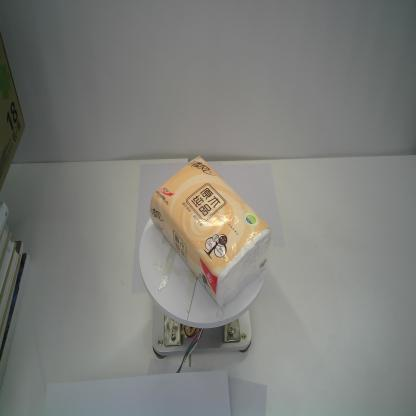Tissue: (148, 155, 272, 308)
